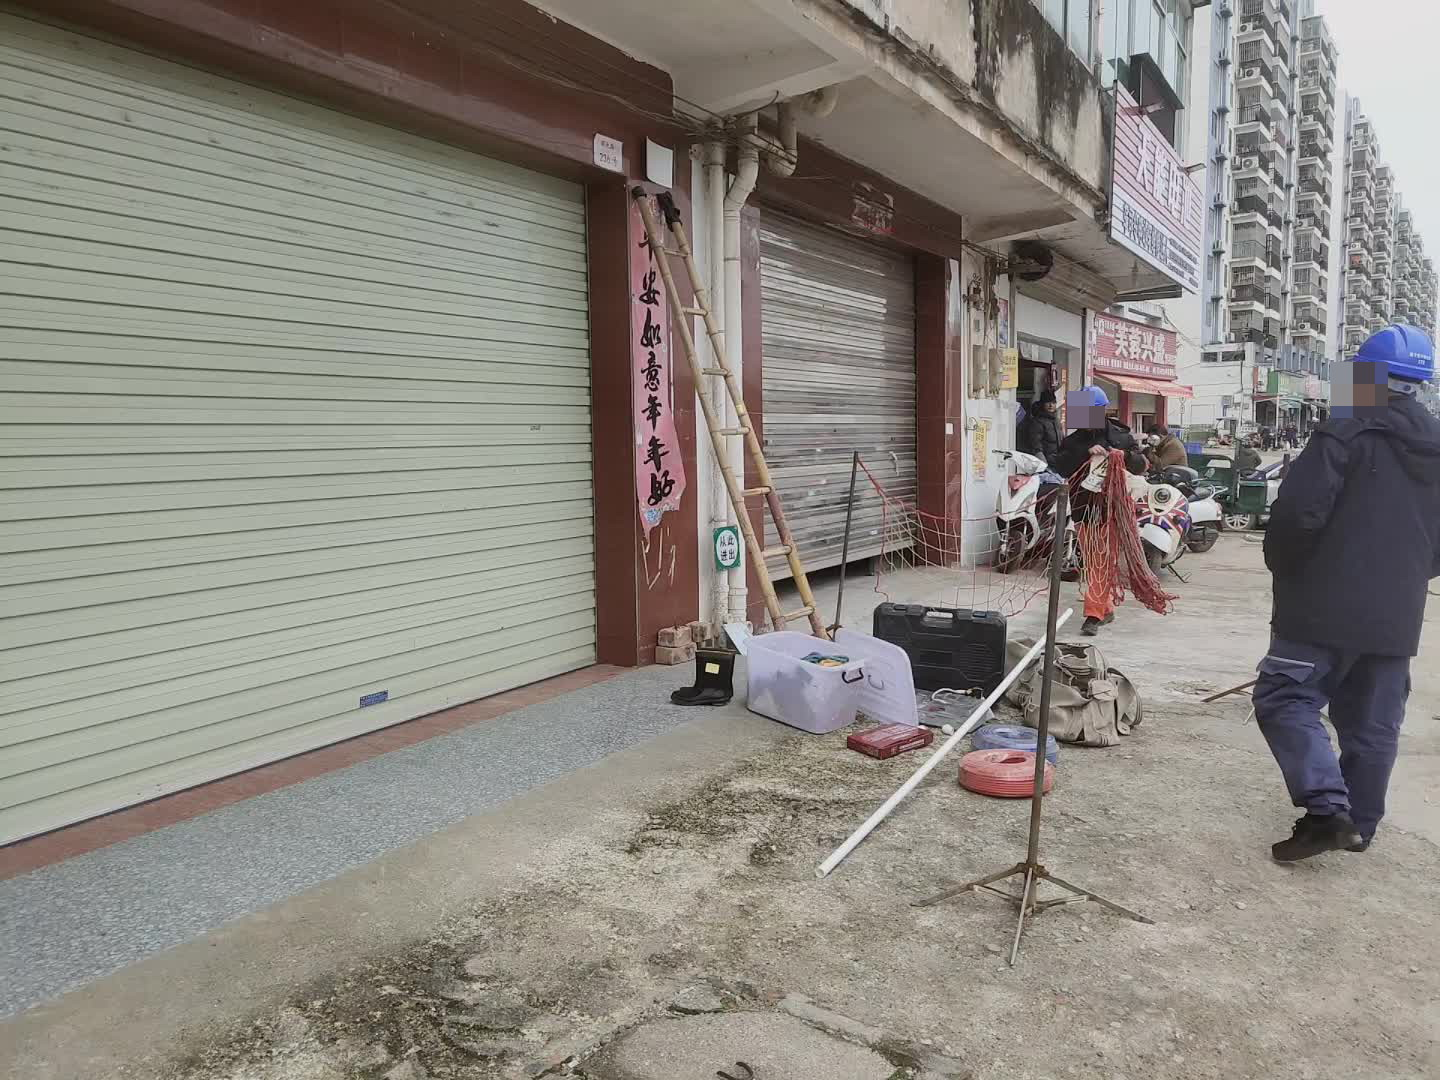downsuit: (1253, 654, 1411, 818)
halt: (1350, 323, 1436, 394), (1070, 386, 1112, 426)
hand: (1088, 442, 1108, 458)
inear: (1347, 362, 1378, 400)
intosign: (713, 526, 740, 570)
person: (1247, 321, 1440, 846), (1051, 381, 1150, 622)
upcloth: (1260, 402, 1440, 632), (1053, 419, 1147, 512)
ydownsuit: (1076, 521, 1115, 618)
